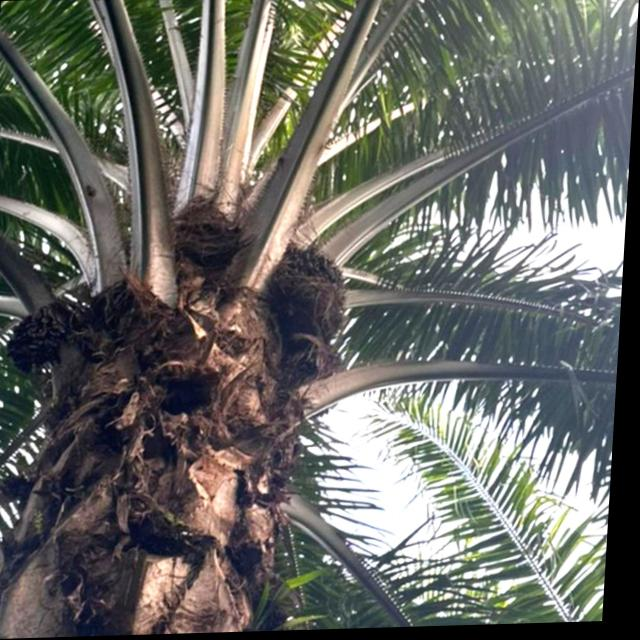unripe: (266, 236, 363, 352), (8, 295, 85, 375)
